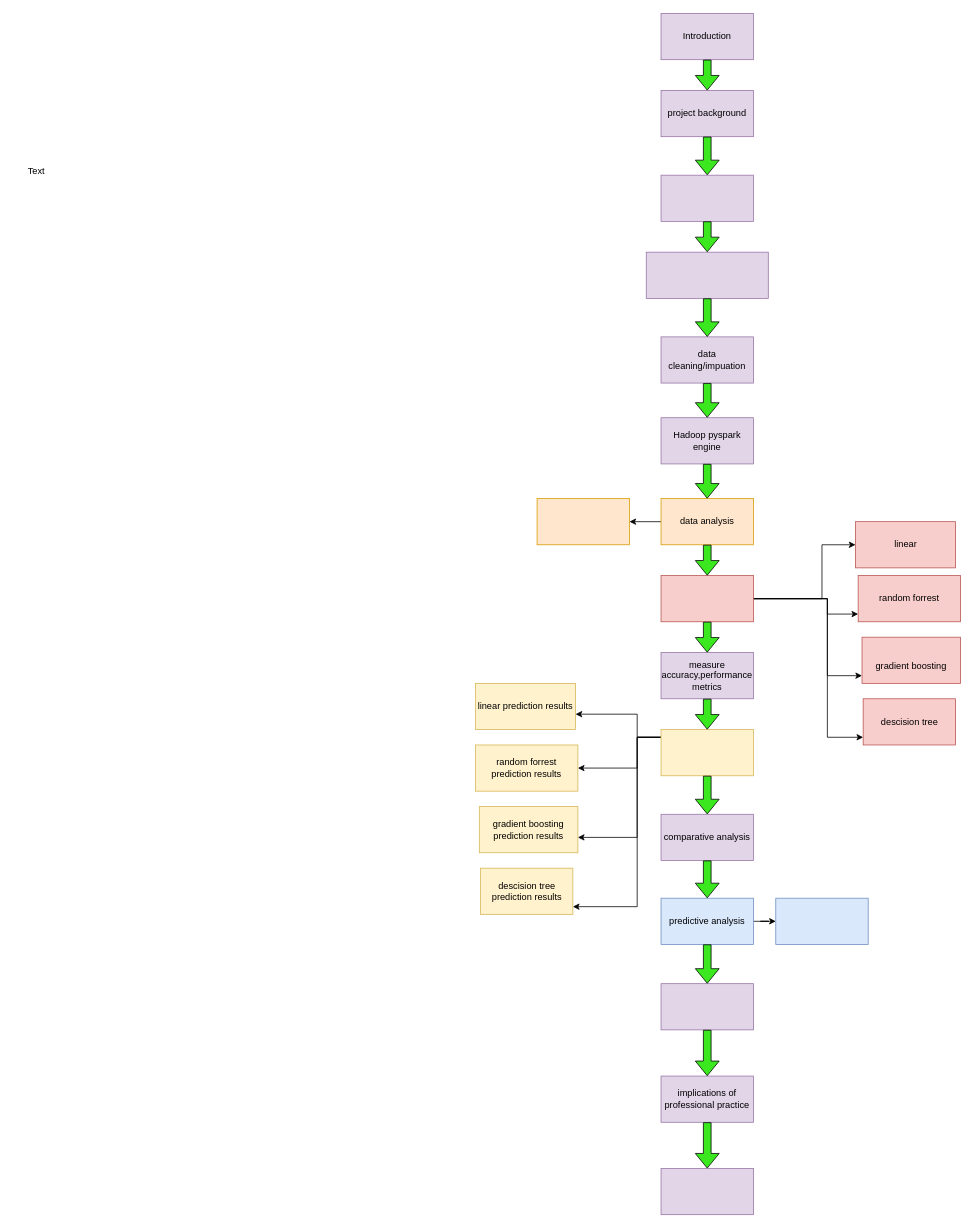
This 974x1228 diagram has some shape labels left out. Here are the shapes that lost their labels. From the top down, the box of each, then its label:
(660, 174, 753, 221): dataset
(645, 251, 768, 298): Data Demonstration/exploration
(536, 498, 629, 545): Research question
(660, 575, 753, 622): application of regression models
(660, 729, 753, 776): Visualisation of results
(775, 897, 868, 944): test result of results with dummy values
(660, 983, 753, 1030): recommendations
(660, 1168, 753, 1215): future results anaysis
